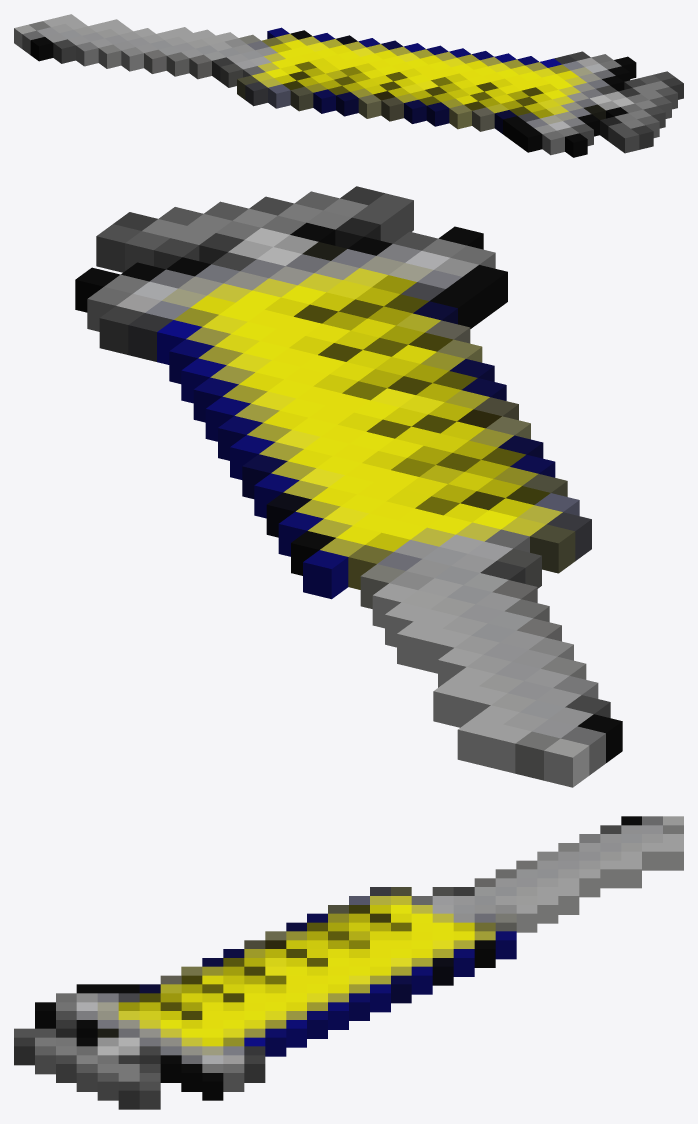
Rendered from adrenaline.fbx.
The picture shows the model from 3 angles, top to bottom: view 1: azimuth 30°, elevation 25°; view 2: azimuth 150°, elevation 25°; view 3: azimuth 270°, elevation 25°; orthographic projection. The views are drawn at different scales.
Parts seen in each view (by area): view 1: adrenaline.png; view 2: adrenaline.png; view 3: adrenaline.png.
Boxes of the visible parts, x1,y1,x2,y2 form: adrenaline.png: (14,14,683,157); adrenaline.png: (75,186,622,787); adrenaline.png: (14,816,683,1109).
Size of the model in its own units: 3100 by 100 by 3200.
